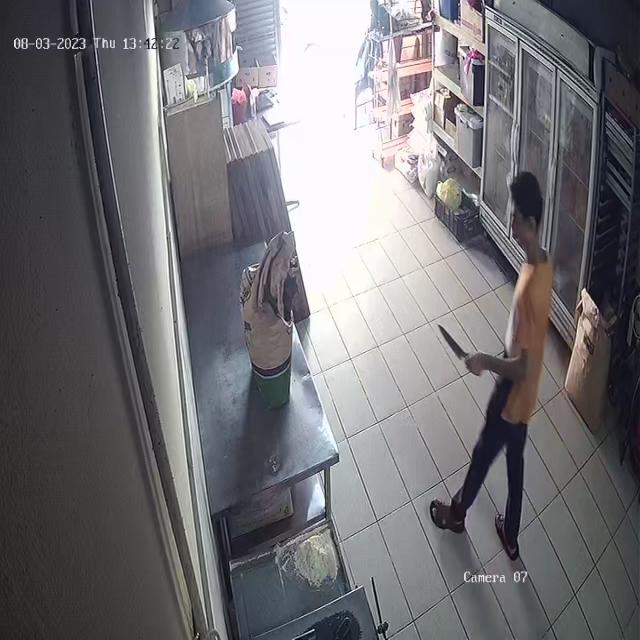Knife: (431, 318, 473, 368)
